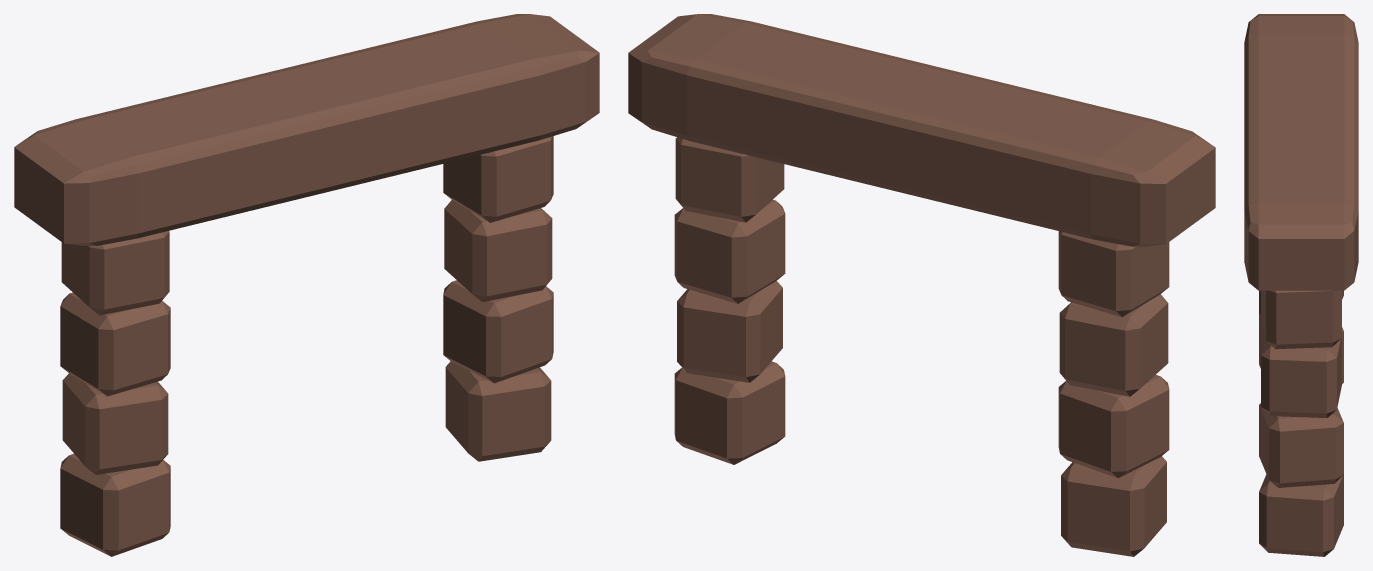
File: portail2.fbx
3 views of the same model, side by side, from view 1: azimuth 30°, elevation 25°; view 2: azimuth 150°, elevation 25°; view 3: azimuth 270°, elevation 25° (orthographic). The views are drawn at different scales.
Visible parts, largest first — view 1: Cube.050, Cube.033, Cube.046, Cube.049, Cube.034, Cube.047, Cube.032, Cube.042, Cube.035; view 2: Cube.050, Cube.047, Cube.034, Cube.032, Cube.046, Cube.033, Cube.049, Cube.042, Cube.035; view 3: Cube.050, Cube.032, Cube.033, Cube.034, Cube.035, Cube.049.
Part boxes in pixels (x1,y1,x2,y2): Cube.050: (14, 14, 599, 245); Cube.033: (443, 280, 553, 383); Cube.046: (60, 292, 170, 396); Cube.049: (60, 453, 170, 556); Cube.034: (444, 200, 552, 301); Cube.047: (62, 373, 168, 474); Cube.032: (445, 361, 551, 461); Cube.042: (61, 231, 169, 315); Cube.035: (443, 136, 553, 222); Cube.050: (628, 14, 1215, 246); Cube.047: (1058, 375, 1169, 478); Cube.034: (674, 200, 785, 303); Cube.032: (674, 361, 785, 464); Cube.046: (1059, 294, 1168, 396); Cube.033: (677, 281, 782, 382); Cube.049: (1061, 456, 1166, 556); Cube.042: (1058, 231, 1169, 317); Cube.035: (675, 137, 784, 222); Cube.050: (1244, 14, 1358, 290); Cube.032: (1259, 474, 1343, 556); Cube.033: (1259, 403, 1343, 487); Cube.034: (1261, 337, 1341, 417); Cube.035: (1261, 290, 1341, 349); Cube.049: (1259, 314, 1343, 383).
Bounding box in the file's own units: 1400 × 1000 × 300.
